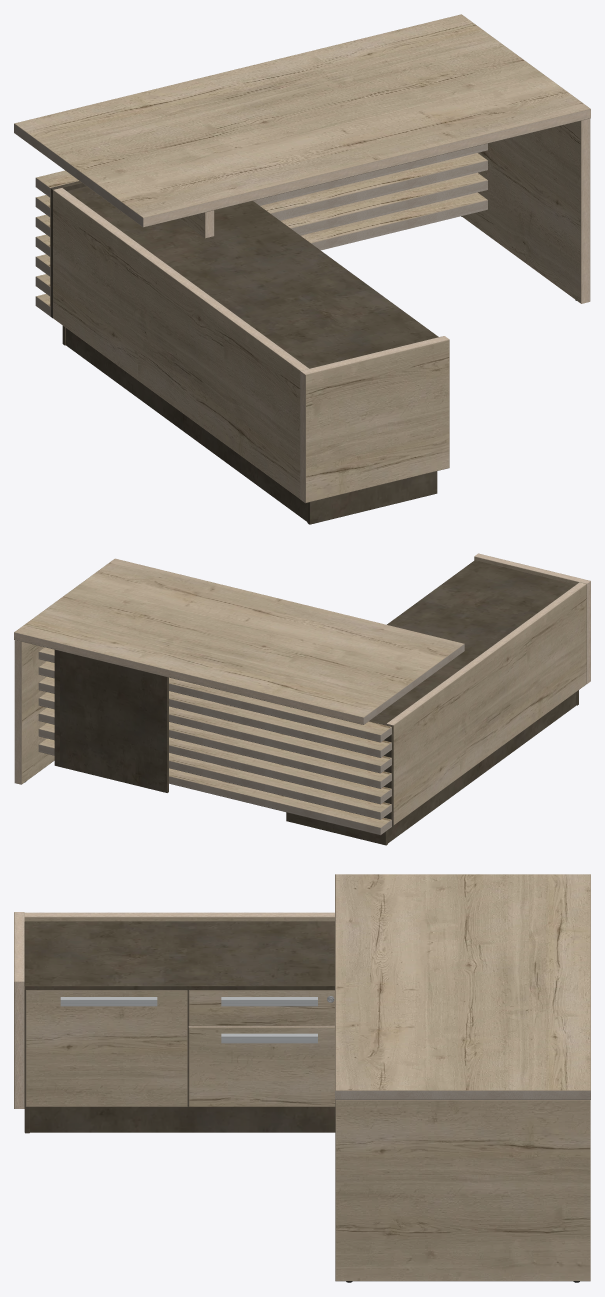
3 views of the same model, one above another, from view 1: azimuth 30°, elevation 25°; view 2: azimuth 150°, elevation 25°; view 3: azimuth 270°, elevation 25° (orthographic). The views are drawn at different scales.
Visible parts, largest first — view 1: Box1578995149, Line1789532198, Line1789532211, Line1789532197, Line1789532200, Line1789532205, Line1789532188, Line1789532206, Line1789532207, Line1789532184, Line1789532204; view 2: Box1578995149, Line1789532198, Line1789532201, Line1789532211, Line1789532200, Line1789532203, Line1789532207, Line1789532204, Line1789532205, Line1789532208, Line1789532206, Line1789532209 (+4 smaller); view 3: Box1578995149, Line1789532200, Line1789532211, Line1789532193, Line1789532195, Line1789532187, Line1789532194, Line1789532198, Line1789532197, Plane1018, Plane1016, Plane1017.
Part boxes in pixels (<box>): Box1578995149: <box>14,14,590,227</box>; Line1789532198: <box>53,188,308,498</box>; Line1789532211: <box>67,186,438,368</box>; Line1789532197: <box>300,336,449,503</box>; Line1789532200: <box>461,118,590,303</box>; Line1789532205: <box>35,153,487,276</box>; Line1789532188: <box>66,328,307,521</box>; Line1789532206: <box>35,172,487,296</box>; Line1789532207: <box>35,192,487,315</box>; Line1789532184: <box>307,471,437,524</box>; Line1789532204: <box>35,143,487,256</box>; Box1578995149: <box>14,558,464,724</box>; Line1789532198: <box>387,582,586,825</box>; Line1789532201: <box>54,650,168,792</box>; Line1789532211: <box>371,560,575,723</box>; Line1789532200: <box>14,640,54,784</box>; Line1789532203: <box>38,676,391,773</box>; Line1789532207: <box>38,738,391,835</box>; Line1789532204: <box>38,692,391,788</box>; Line1789532205: <box>38,707,391,804</box>; Line1789532208: <box>38,661,391,757</box>; Line1789532206: <box>38,723,391,819</box>; Line1789532209: <box>38,647,391,742</box>; Box1578995149: <box>335,874,590,1099</box>; Line1789532200: <box>335,1100,590,1281</box>; Line1789532211: <box>24,921,334,990</box>; Line1789532193: <box>25,990,187,1106</box>; Line1789532195: <box>188,1026,335,1106</box>; Line1789532187: <box>30,1105,335,1132</box>; Line1789532194: <box>188,990,334,1026</box>; Line1789532198: <box>24,912,334,921</box>; Line1789532197: <box>14,912,24,1108</box>; Plane1018: <box>221,1033,317,1043</box>; Plane1016: <box>60,997,157,1006</box>; Plane1017: <box>221,997,317,1006</box>.
Size of the model in its own units: 1.8 by 0.75 by 2.03.
8 materials, 6 textured.
